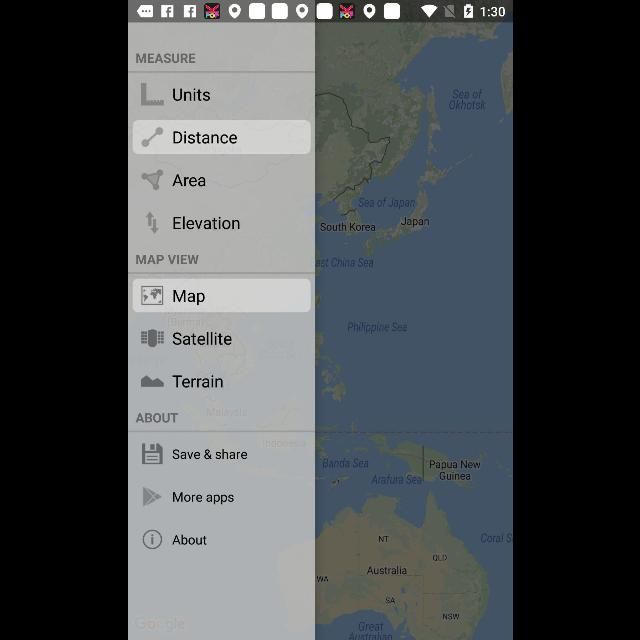icon: (142, 530, 162, 550), (142, 487, 162, 507), (145, 212, 159, 234)
image: (140, 84, 163, 106), (142, 443, 162, 465), (141, 286, 163, 306), (141, 170, 163, 190), (140, 329, 163, 347), (141, 128, 163, 146), (140, 375, 163, 387)
panel: (128, 22, 314, 640)
text: (172, 216, 240, 230), (172, 131, 236, 145), (172, 332, 232, 346), (171, 448, 247, 459), (170, 492, 233, 504), (135, 52, 195, 64), (136, 255, 198, 265), (172, 376, 222, 388), (172, 88, 210, 102), (172, 290, 204, 306), (171, 175, 205, 188), (134, 413, 178, 423), (170, 534, 206, 546)
uppertaskbar: (128, 1, 512, 23)
